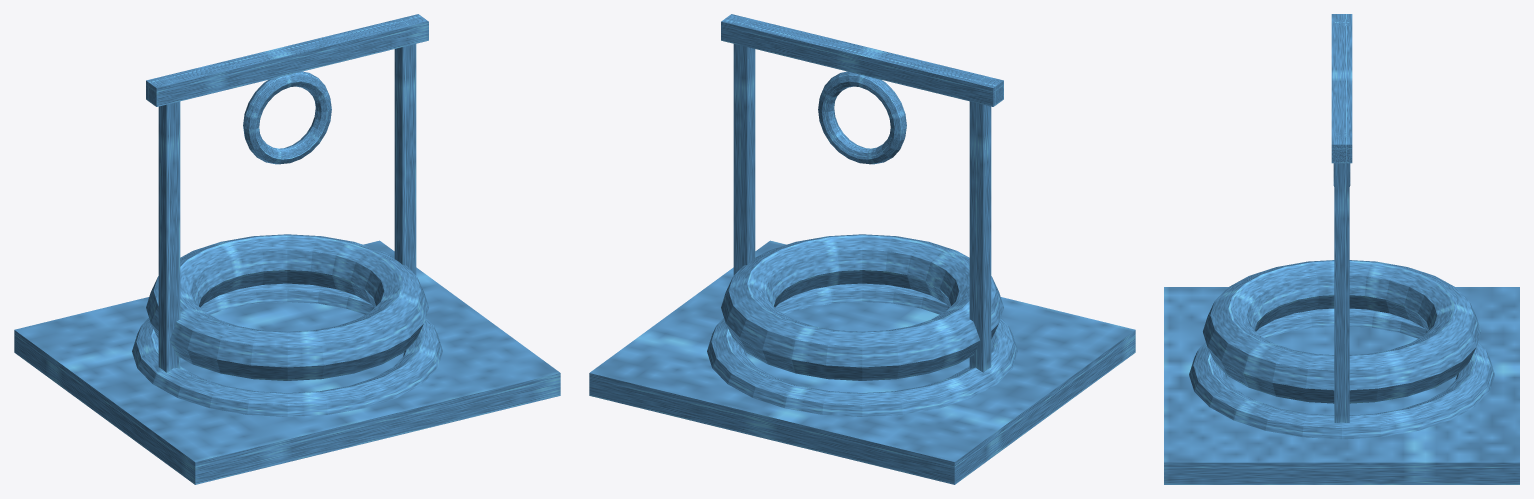
File: moonwell_01.glb
The picture shows the model from 3 angles, left to right: view 1: azimuth 30°, elevation 25°; view 2: azimuth 150°, elevation 25°; view 3: azimuth 270°, elevation 25°; orthographic projection.
Parts seen in each view (by area): view 1: Foundation, Well, WellBase, MoonBeam, MoonPost, MoonPost.001, Moon; view 2: Foundation, Well, WellBase, MoonBeam, MoonPost, MoonPost.001, Moon; view 3: Foundation, Well, WellBase, MoonPost.001, MoonBeam.
Boxes of the visible parts, x1,y1,x2,y2 form: Foundation: (14, 240, 560, 484); Well: (146, 234, 428, 380); WellBase: (132, 283, 442, 416); MoonBeam: (146, 14, 428, 106); MoonPost: (158, 75, 180, 372); MoonPost.001: (394, 17, 416, 275); Moon: (243, 71, 331, 164); Foundation: (589, 240, 1135, 484); Well: (721, 234, 1003, 380); WellBase: (707, 283, 1017, 416); MoonBeam: (721, 14, 1003, 106); MoonPost: (969, 75, 991, 372); MoonPost.001: (733, 17, 755, 275); Moon: (818, 71, 906, 164); Foundation: (1164, 287, 1519, 484); Well: (1203, 260, 1480, 403); WellBase: (1189, 308, 1494, 439); MoonPost.001: (1334, 132, 1349, 422); MoonBeam: (1331, 14, 1352, 163).
Bounding box in the file's own units: 4.03 × 3.4 × 3.45.
1 material, 1 textured.
